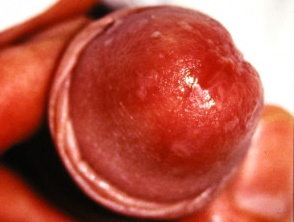SJS-TEN: (30, 0, 294, 222)
